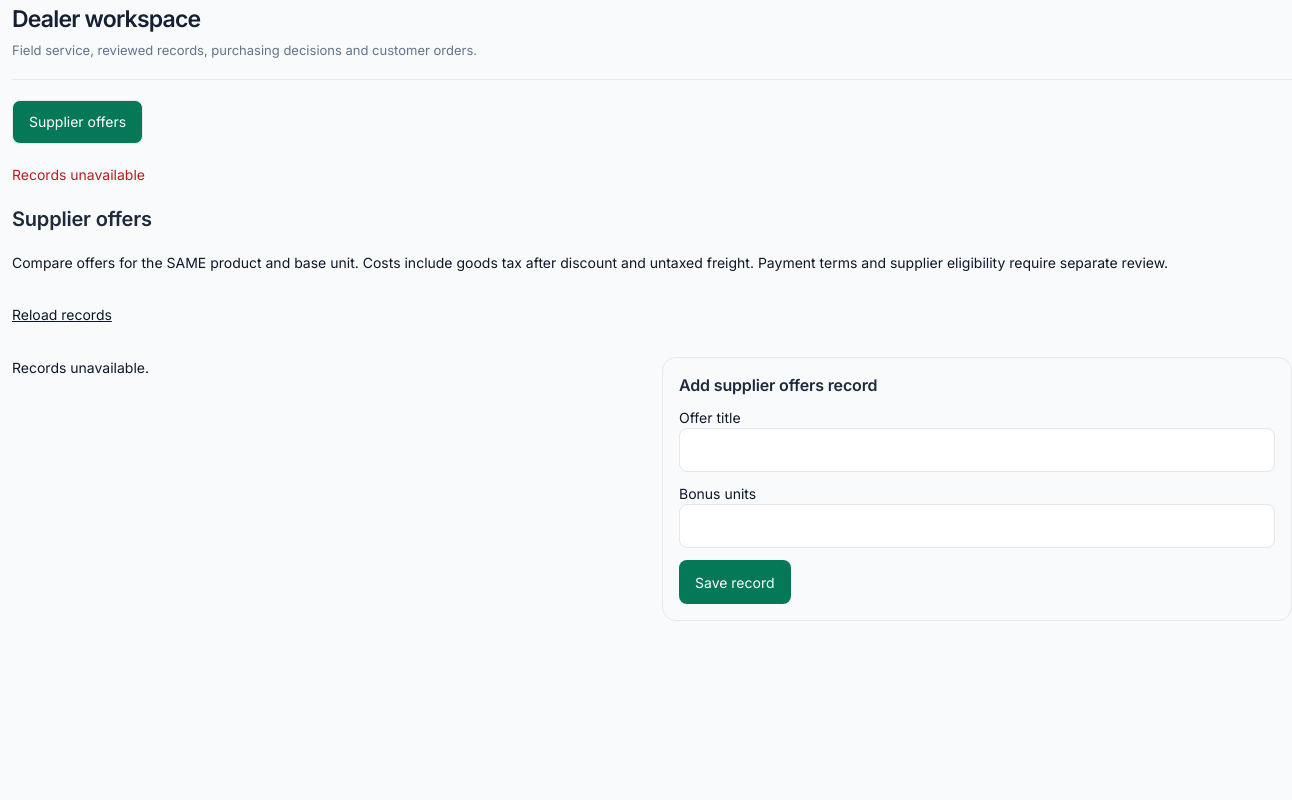
Test: shows a retryable API failure separately from an empty list
Expected: the text "Records unavailable" is shown, top-left (12, 166), bottom-right (145, 183)
Expected: the text "No records yet." is not shown
Click the button "Reload records": (62, 315) top-left (12, 293), bottom-right (112, 337)
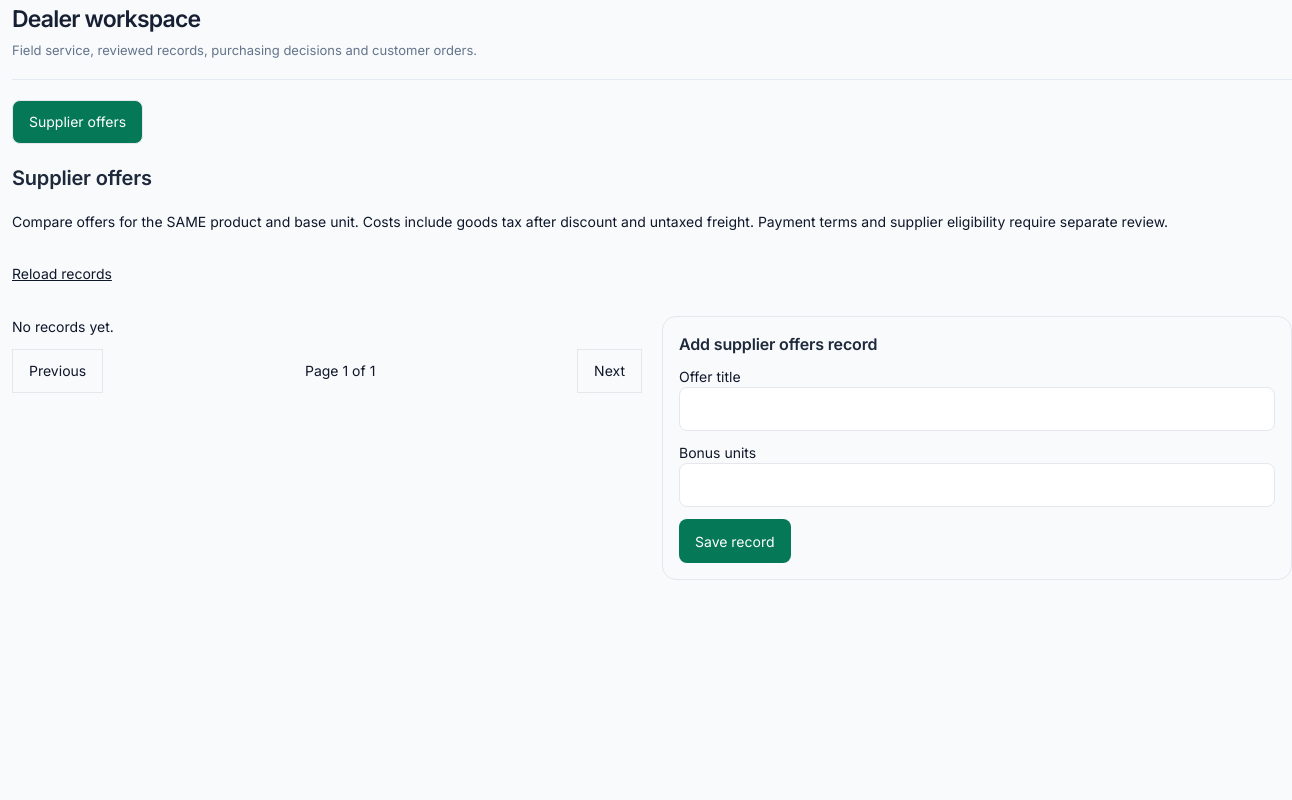
Expected: the text "No records yet." is shown, top-left (12, 318), bottom-right (114, 335)
